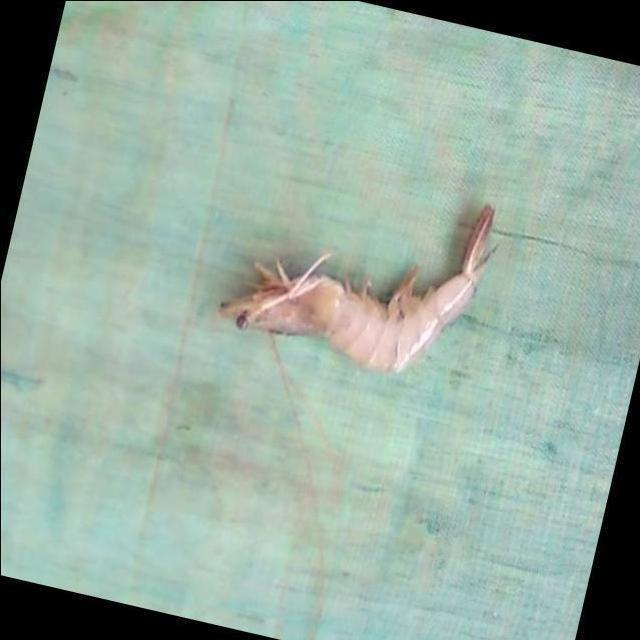shrimp: (217, 205, 495, 371)
